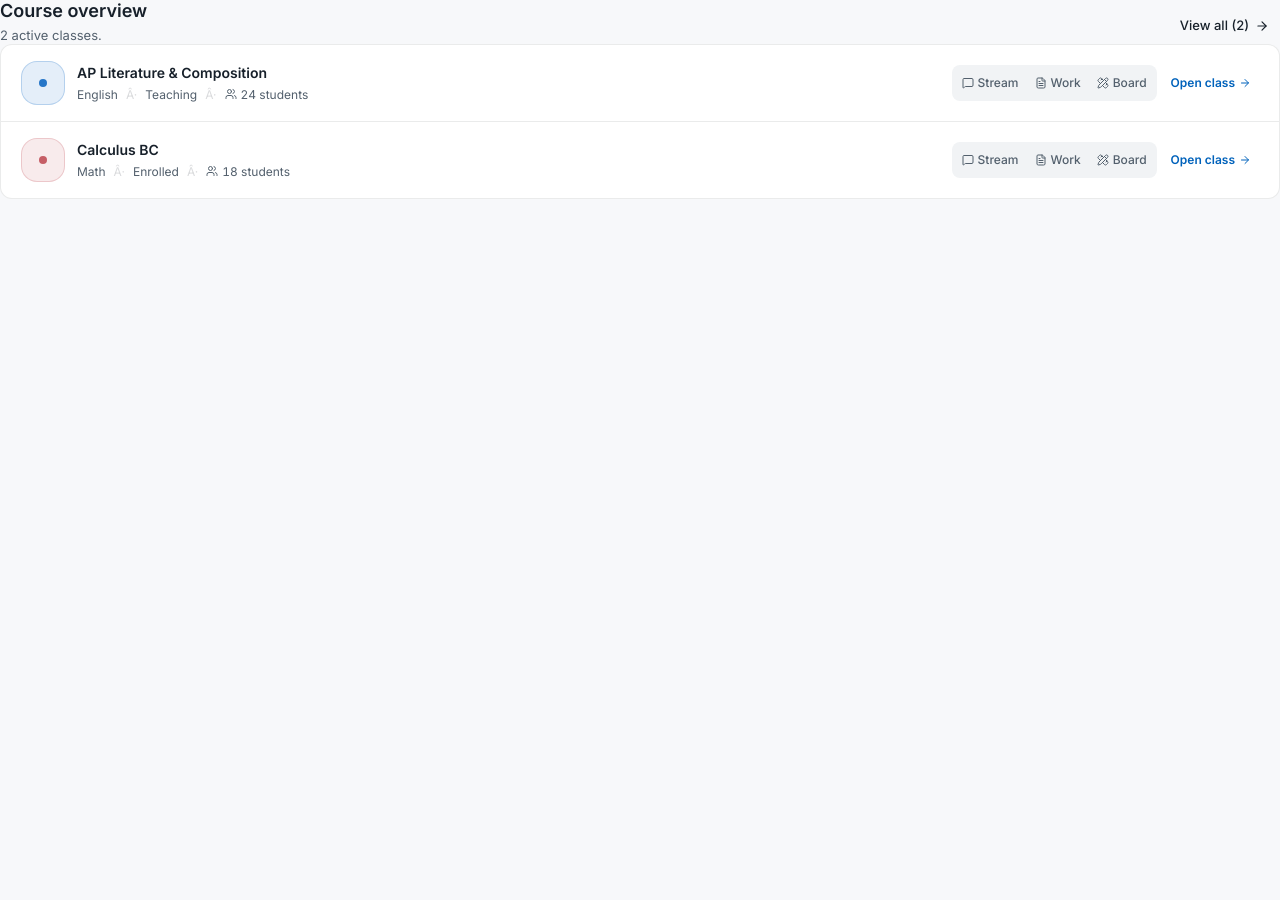
Test case: RecentClasses › opens the all-classes dialog when View all is clicked
Click the button "View all (2)" at {"x": 1224, "y": 26}, box [1169,8,1279,44]
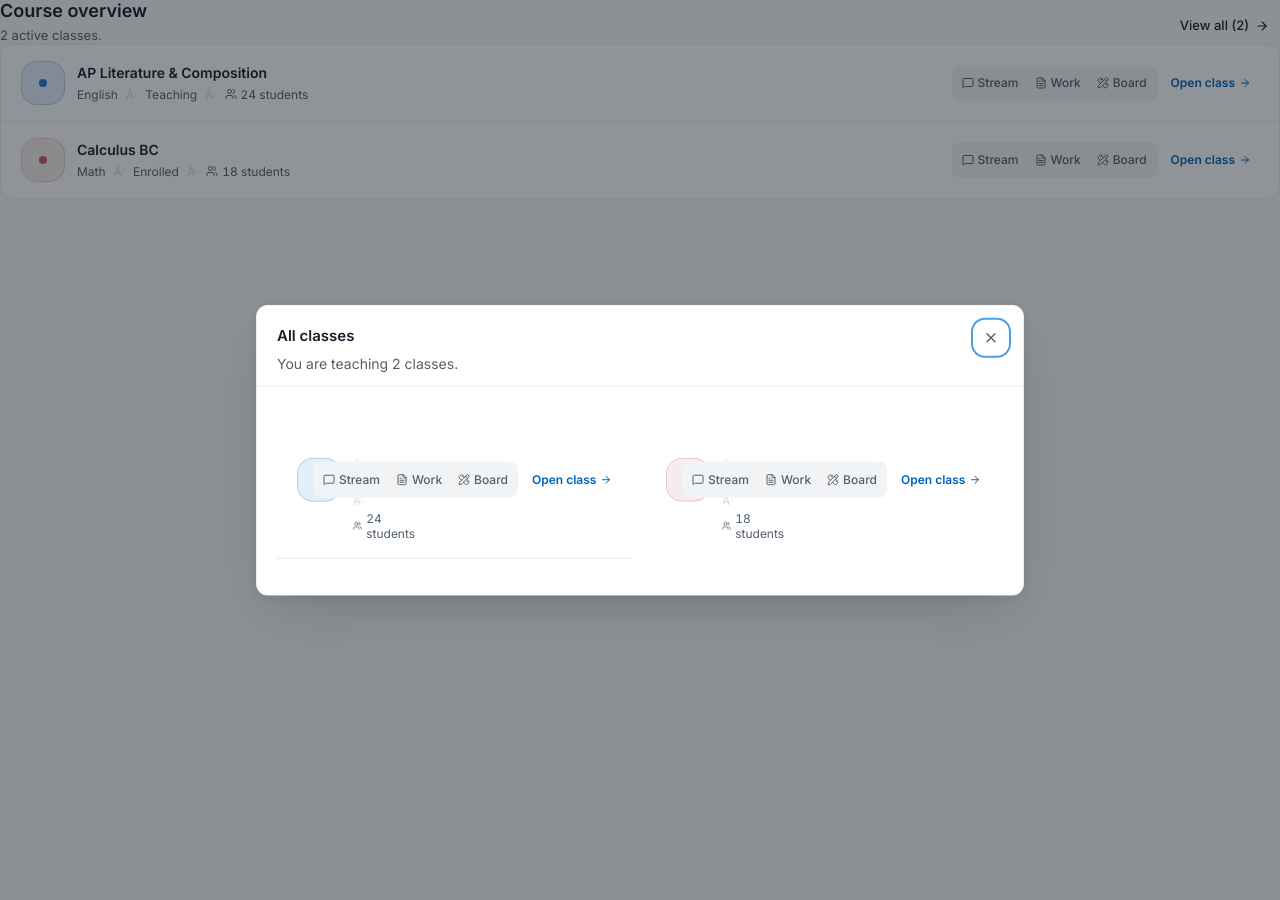
Now the dialog is shown, box [256,305,1024,595]
Now the text "You are teaching 2 classes." is shown, box [277,354,458,371]
